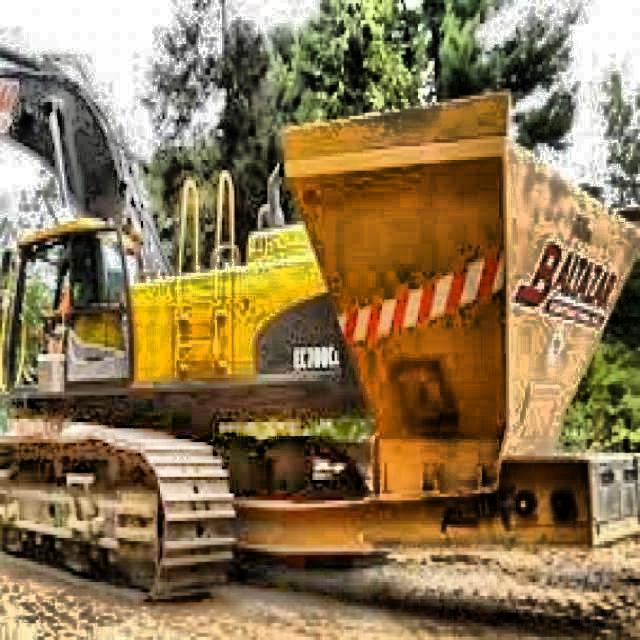bull_dozer/loader/grader: (0, 42, 640, 608)
person: (49, 262, 82, 321)
